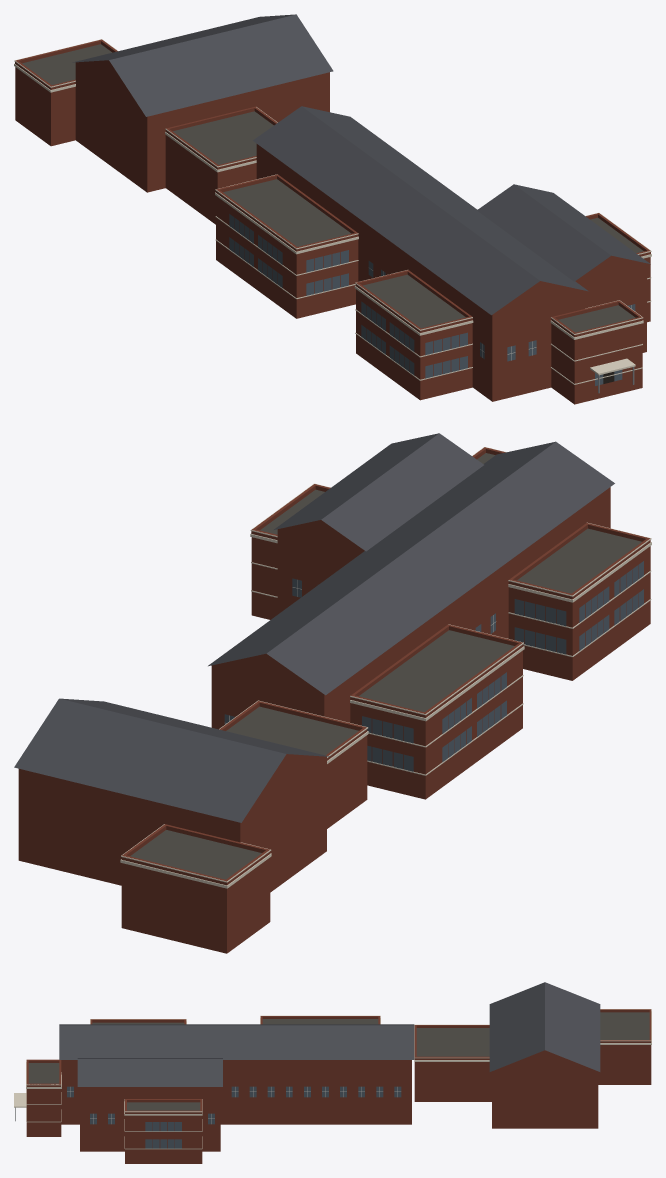
The model's file is pulaski-academy-bo500063856.glb.
The picture shows the model from 3 angles, top to bottom: view 1: azimuth 30°, elevation 25°; view 2: azimuth 150°, elevation 25°; view 3: azimuth 270°, elevation 25°; orthographic projection. The views are drawn at different scales.
Visible parts, largest first — view 1: pulaski_academy_bo500063856; view 2: pulaski_academy_bo500063856; view 3: pulaski_academy_bo500063856.
Boxes of the visible parts, bbox=[...] form: pulaski_academy_bo500063856: bbox=[14, 14, 651, 404]; pulaski_academy_bo500063856: bbox=[14, 433, 651, 953]; pulaski_academy_bo500063856: bbox=[14, 982, 651, 1163].
Bounding box in the file's own units: 45.74 × 18.18 × 120.
